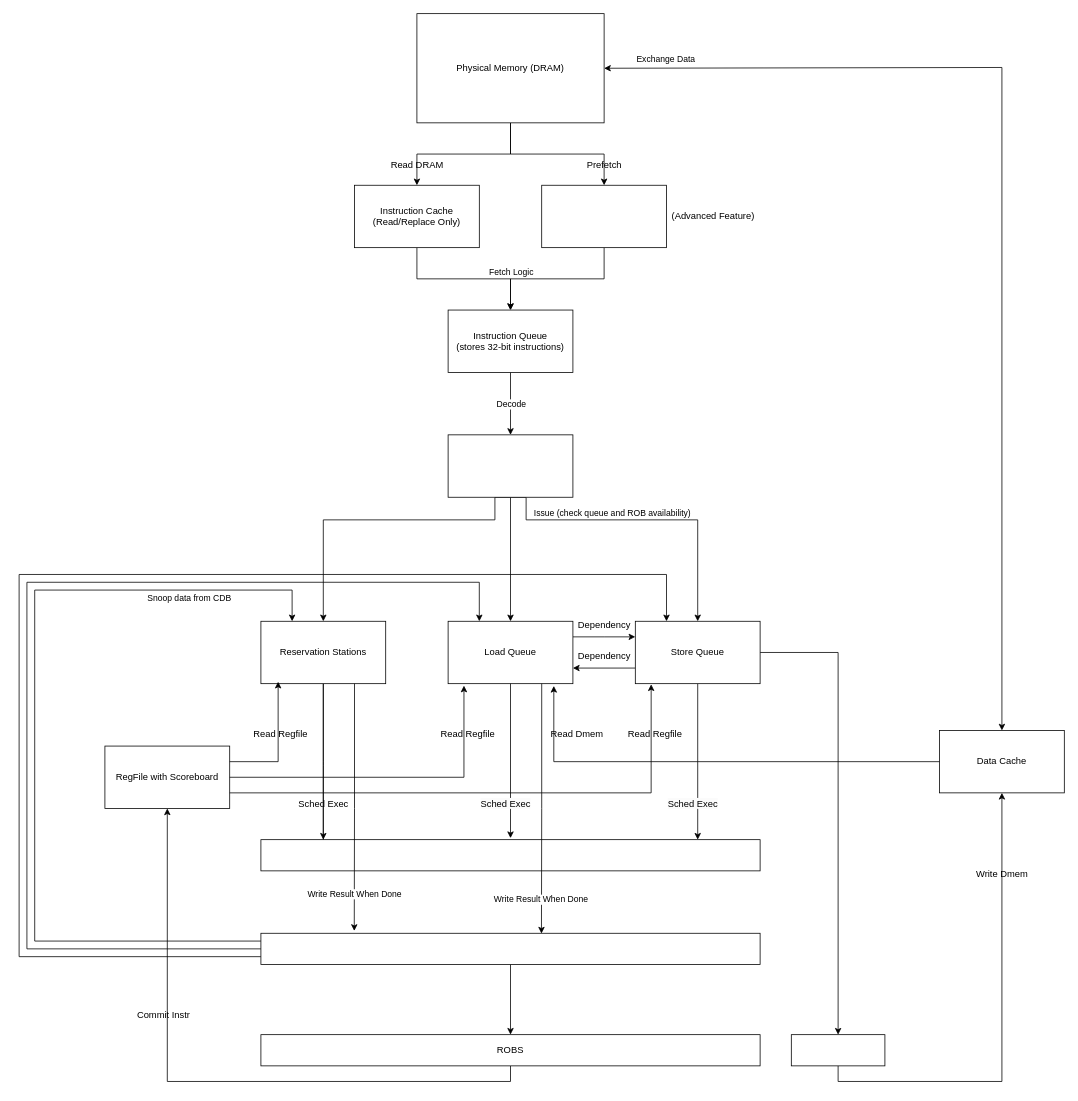
The diagram is 1078 pixels wide and 1101 high, and some of its shapes have lost their labels. The shapes that lost their labels are listed below. From the top down, each one's box as (x1, y1, x2, y2) in pixels, then its label:
(541, 184, 667, 248): Stream Buffer (Prefetcher)
(447, 434, 573, 497): Decoded Instruction Queue
(260, 839, 760, 871): ALUs
(260, 932, 760, 964): CDB
(791, 1034, 885, 1066): Store Buffer
